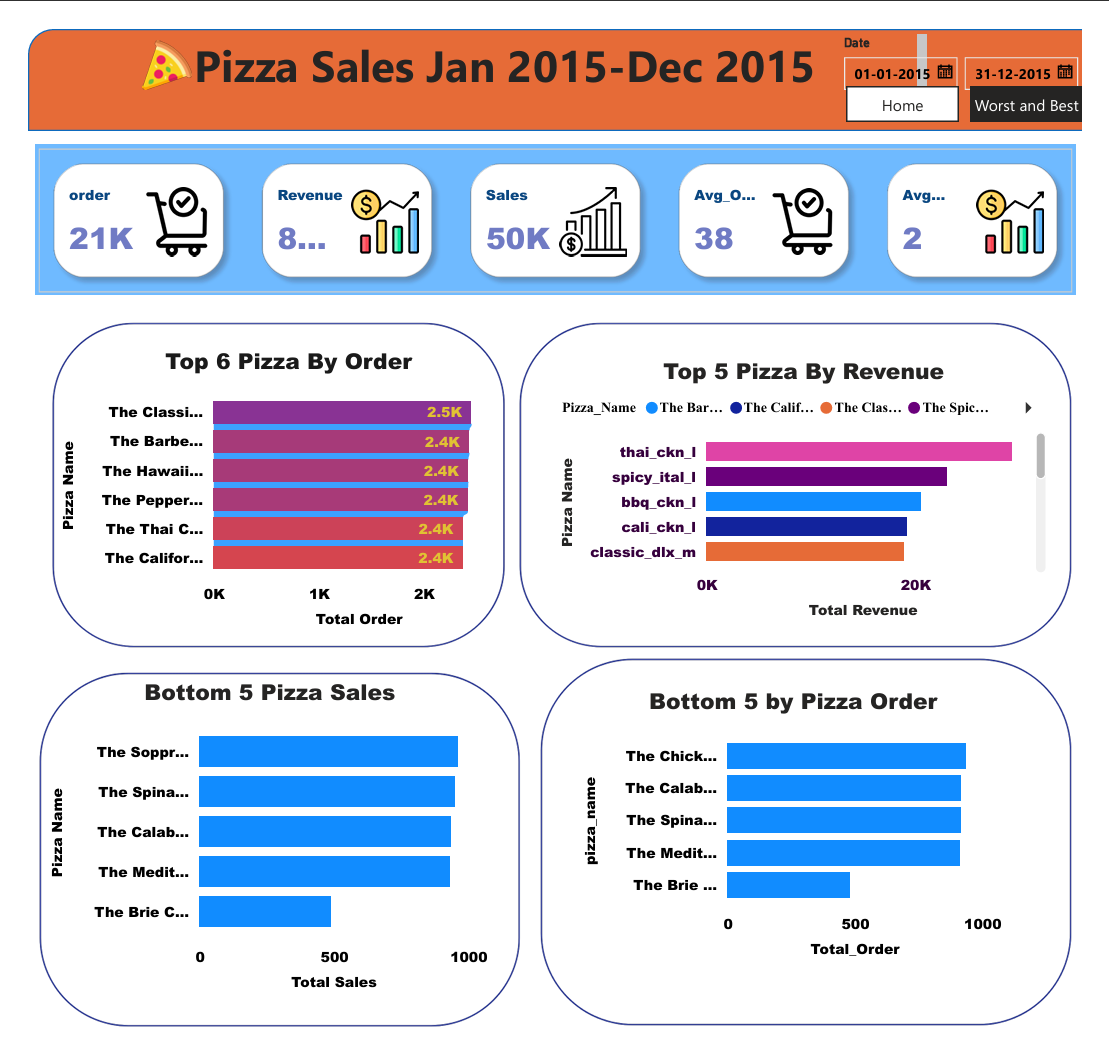

Layout of this report page (visuals, bound fields, positions):
{"tool":"powerbi","page":{"name":"Worst and Best","canvas":[900,860],"ordinal":1},"visuals":[{"type":"shape","box":[0,0,939,87],"z":0},{"type":"textbox","box":[137,0,636,57],"z":1000},{"type":"image","box":[66,5,105,52],"z":2000},{"type":"cardVisual","fields":{"Data":["Pizza.Total_Order","Pizza.total_revenue","Pizza.Total_sales","Pizza.average_order","Pizza.average_pizza_per_order"]},"box":[1,94,899,139],"z":3000},{"type":"barChart","title":"Top 6 Pizza By Order","fields":{"Category":["Pizza.pizza_name"],"Y":["Pizza.Total_sales"]},"box":[24,269,397,249],"z":4000},{"type":"shape","box":[1,541,428,320],"z":5000},{"type":"barChart","title":"Top 5 Pizza By Revenue","fields":{"Category":["Pizza.pizza_name_id"],"Y":["Pizza.total_revenue"],"Series":["Pizza.pizza_name"]},"box":[451,278,423,232],"z":6000},{"type":"shape","box":[411,242,489,295],"z":7000},{"type":"slicer","fields":{"Values":["Pizza.order_date"]},"box":[684,0,255,63],"z":8000},{"type":"barChart","title":"Bottom 5 Pizza Sales","fields":{"Y":["Pizza.Total_sales"],"Category":["Pizza.pizza_name"]},"box":[15,552,383,276],"z":9000},{"type":"shape","box":[12,242,404,295],"z":10000},{"type":"barChart","title":"Bottom 5 by Pizza Order","fields":{"Category":["Pizza.pizza_name"],"Y":["Pizza.Total_Order"]},"box":[470,560,367,240],"z":11000},{"type":"shape","box":[429,529,471,331],"z":12000},{"type":"pageNavigator","box":[699,49,202,30],"z":15000}]}

Visuals, with their boxes in screenshot pixels (x1, y1, x2, y2), scaled from the page's 900x860 canvas onto the 1109x1064 screenshot:
shape: {"x1": 0, "y1": 0, "x2": 1108, "y2": 108}
textbox: {"x1": 169, "y1": 0, "x2": 953, "y2": 71}
image: {"x1": 81, "y1": 6, "x2": 211, "y2": 71}
cardVisual - Pizza.Total_Order x Pizza.total_revenue: {"x1": 1, "y1": 116, "x2": 1108, "y2": 288}
"Top 6 Pizza By Order" barChart: {"x1": 30, "y1": 333, "x2": 519, "y2": 641}
shape: {"x1": 1, "y1": 669, "x2": 529, "y2": 1063}
"Top 5 Pizza By Revenue" barChart: {"x1": 556, "y1": 344, "x2": 1077, "y2": 631}
shape: {"x1": 506, "y1": 299, "x2": 1108, "y2": 664}
slicer - Pizza.order_date: {"x1": 843, "y1": 0, "x2": 1108, "y2": 78}
"Bottom 5 Pizza Sales" barChart: {"x1": 18, "y1": 683, "x2": 490, "y2": 1024}
shape: {"x1": 15, "y1": 299, "x2": 513, "y2": 664}
"Bottom 5 by Pizza Order" barChart: {"x1": 579, "y1": 693, "x2": 1031, "y2": 990}
shape: {"x1": 529, "y1": 654, "x2": 1108, "y2": 1063}
pageNavigator: {"x1": 861, "y1": 61, "x2": 1108, "y2": 98}
